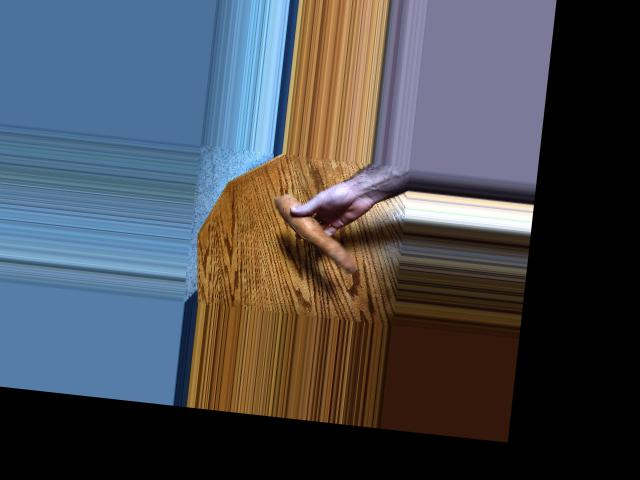sweet_potato: (275, 192, 363, 271)
